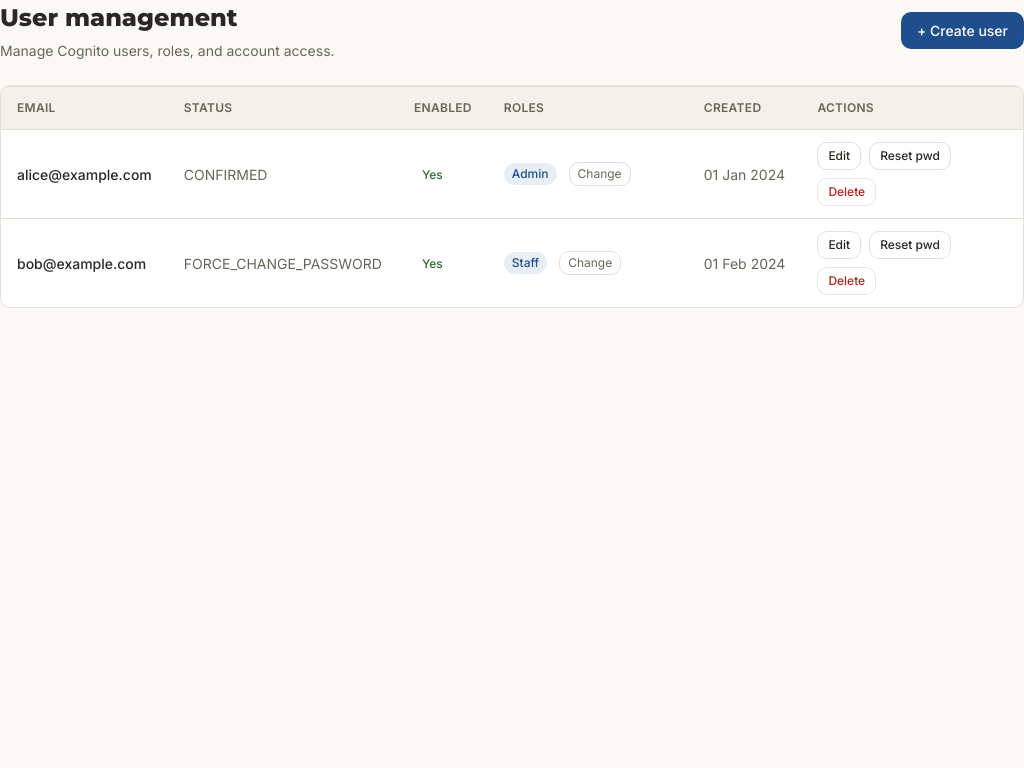
Test: UsersPage — reset password flow › shows the temp-password handoff after resetUserPassword resolves (email sent branch)
Expected: the text "alice@example.com" is shown, [1,130,168,218]
Click the button with aria-label "reset password for alice@example.com" at (910, 156), box [869,142,951,170]
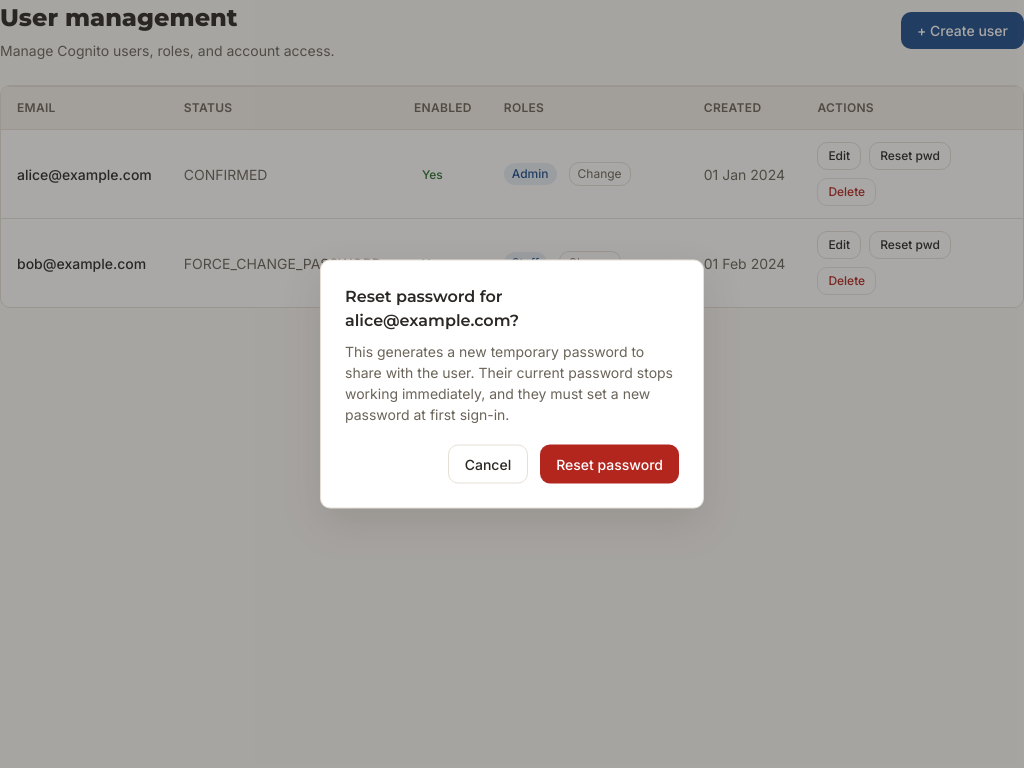
Click the button "Reset password" at (610, 464), box [540,444,679,484]
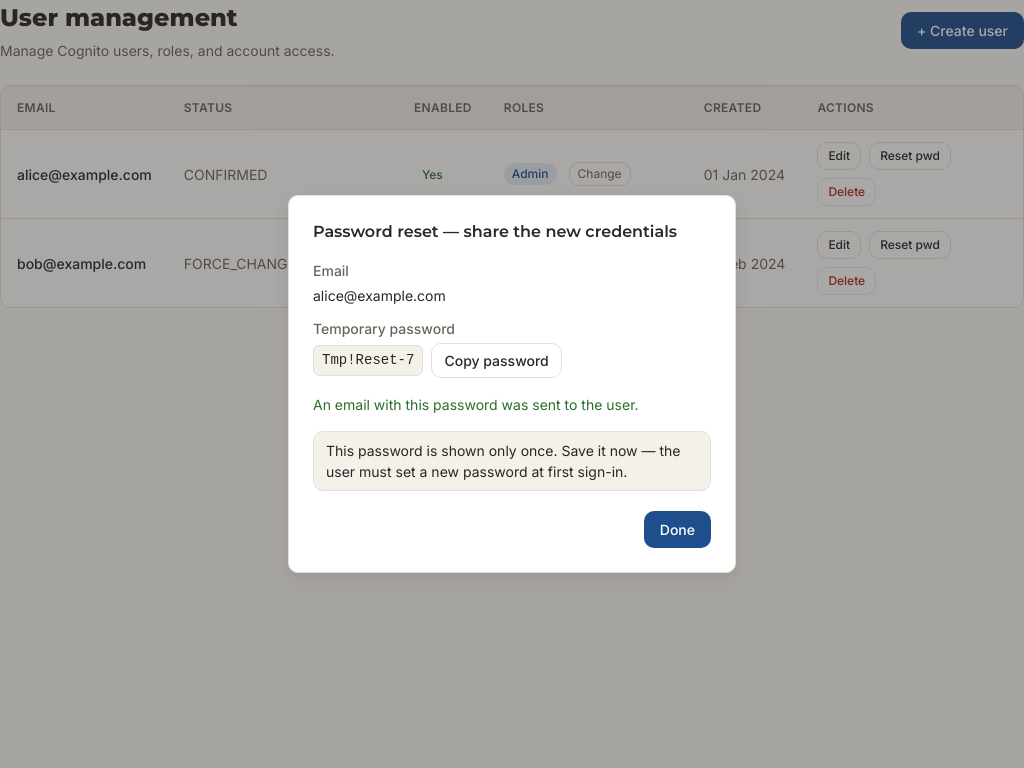
Expected: the text "Tmp!Reset-7" is shown, [313,345,423,376]
Expected: the text "shown only once" is shown, [326,442,680,480]
Expected: the text "An email with this password was sent to the user." is shown, [313,396,639,413]
Click the button "Done" at (677, 530), box [644,511,711,548]
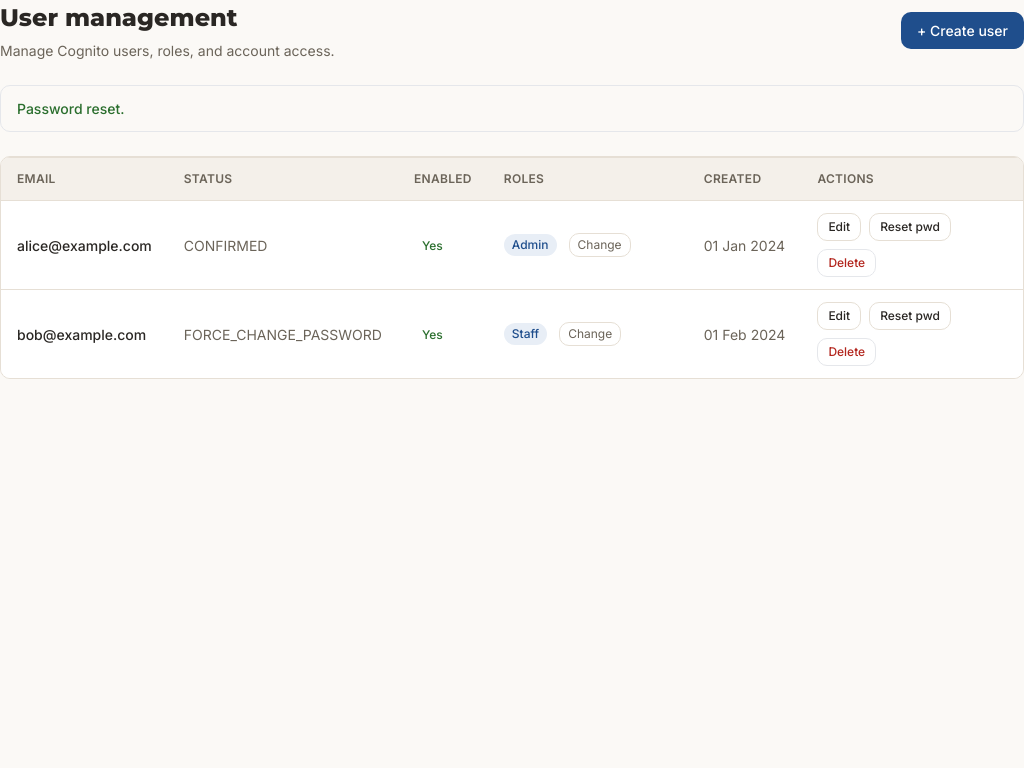
Expected: the message reads "Password reset.", [17,100,124,117]
